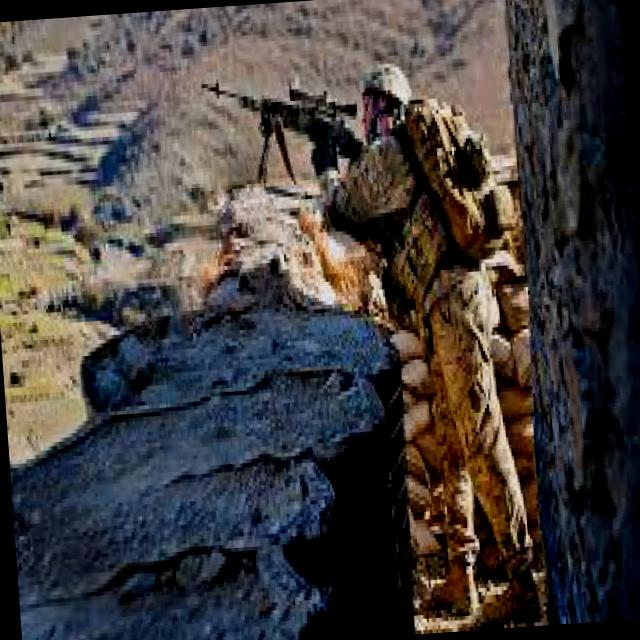long weapon: (185, 42, 363, 223)
